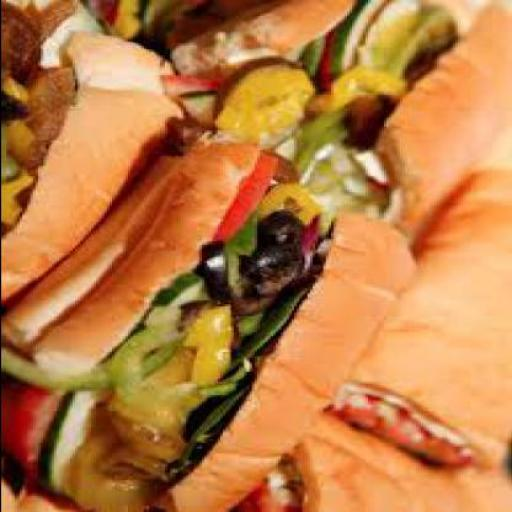biodegradable: (1, 0, 511, 512), (32, 139, 417, 510), (226, 167, 511, 511), (279, 0, 510, 231), (3, 87, 187, 301), (380, 0, 511, 249), (226, 406, 511, 511), (88, 1, 354, 77), (3, 311, 193, 387), (330, 390, 470, 464), (216, 58, 319, 148), (113, 302, 201, 406), (68, 423, 167, 510), (2, 379, 58, 502), (2, 383, 64, 488), (67, 31, 182, 87), (45, 388, 100, 498), (180, 384, 251, 468), (216, 146, 285, 232), (242, 280, 314, 360), (380, 4, 454, 78), (114, 402, 197, 466), (298, 138, 372, 208), (290, 104, 354, 180), (185, 301, 240, 389), (308, 62, 407, 110), (332, 0, 388, 75), (29, 64, 82, 138), (1, 0, 42, 84), (245, 241, 311, 293), (229, 468, 301, 510), (264, 180, 328, 227), (153, 270, 214, 315), (198, 241, 240, 303), (349, 83, 393, 142), (2, 166, 40, 228), (163, 14, 225, 49), (34, 0, 79, 46), (298, 216, 332, 274), (316, 26, 344, 95), (3, 122, 45, 167), (264, 209, 311, 245), (201, 360, 256, 390), (182, 85, 227, 121), (2, 486, 66, 511), (134, 0, 174, 39), (169, 69, 225, 95), (106, 0, 143, 38), (2, 75, 34, 117), (166, 118, 203, 153), (301, 39, 333, 79), (404, 49, 438, 84), (227, 312, 267, 340), (155, 0, 211, 18), (230, 292, 272, 314), (364, 188, 396, 216), (362, 147, 383, 182), (18, 2, 40, 28), (2, 152, 24, 178), (98, 0, 116, 22)
